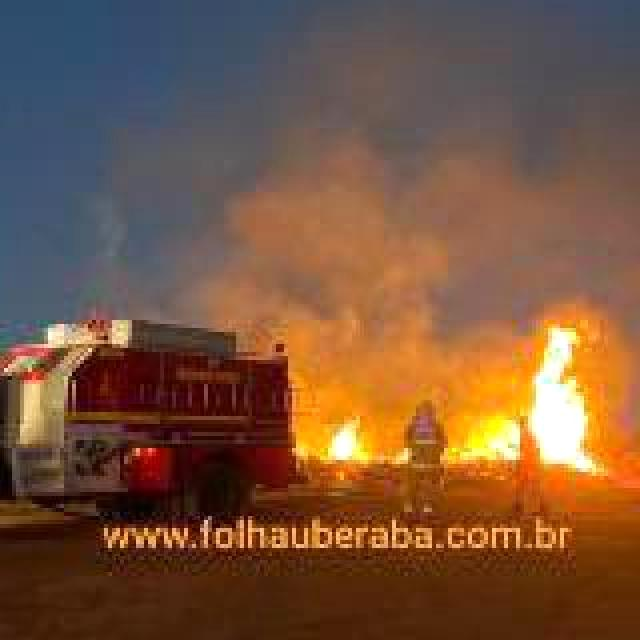smoke: (250, 0, 640, 302)
